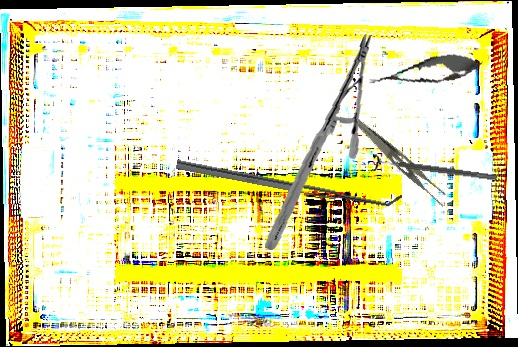Dressing Forceps: (342, 115, 454, 209)
Fixation Ring: (371, 152, 498, 188)
Micro Scissor: (365, 47, 486, 97)
Needle Holder: (250, 33, 388, 251)
Spatula Surgical: (175, 151, 403, 212)
